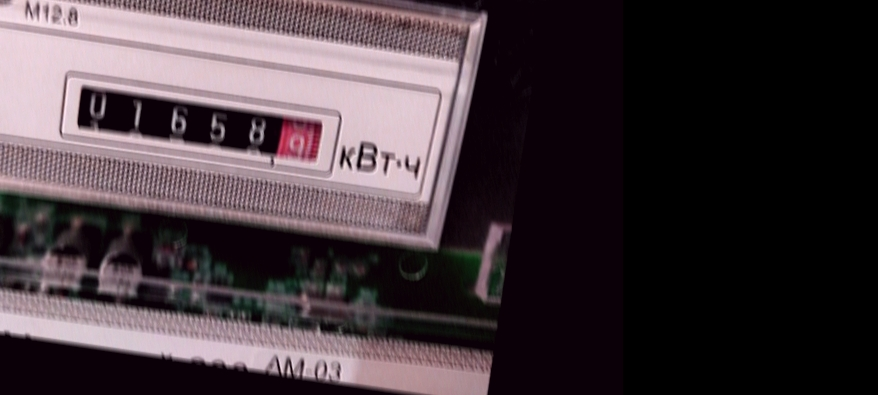0: (87, 87, 113, 122)
1: (130, 97, 148, 130)
5: (209, 110, 233, 144)
6: (170, 103, 194, 137)
8: (248, 114, 272, 148)
9: (287, 131, 308, 160)
screen: (51, 62, 350, 183)
